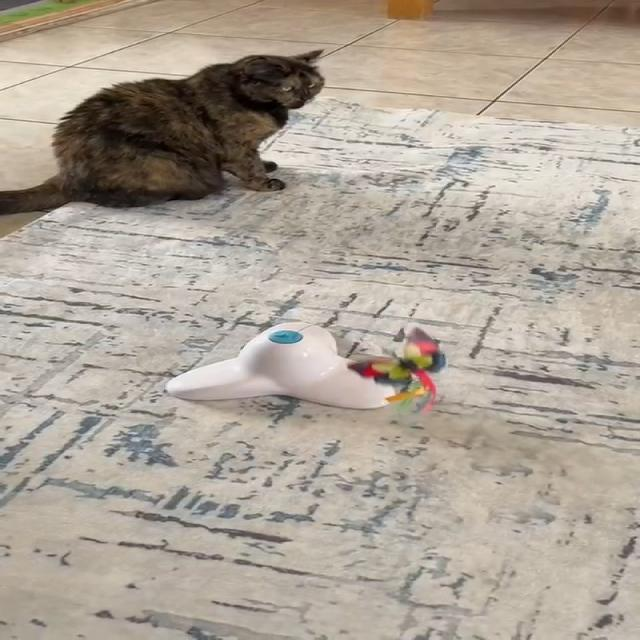authorized: (0, 48, 325, 215)
